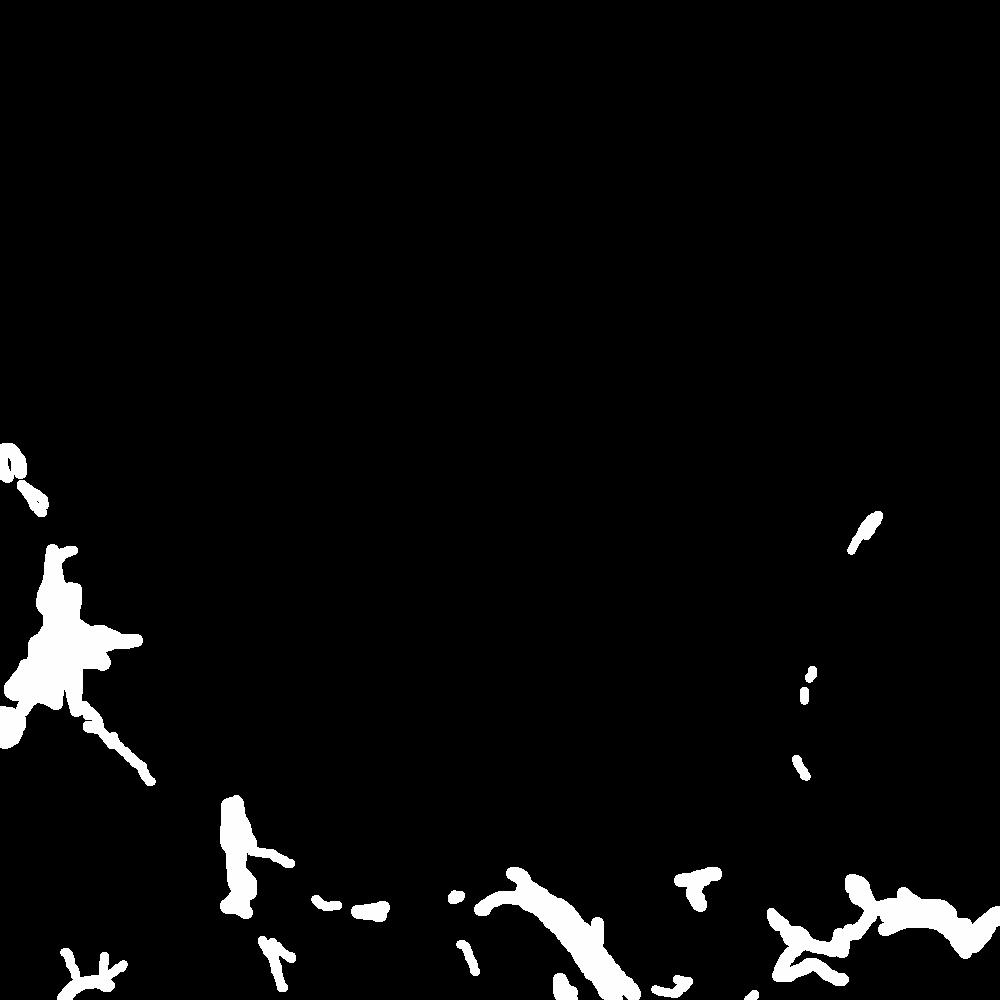illegal: (1, 437, 154, 796), (445, 859, 718, 1000), (741, 873, 1000, 1000), (776, 508, 890, 781), (165, 787, 291, 928), (36, 947, 146, 1000), (303, 886, 396, 935)
